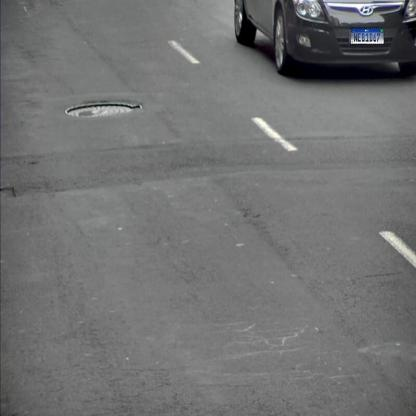PlacaM: (350, 28, 384, 44)
